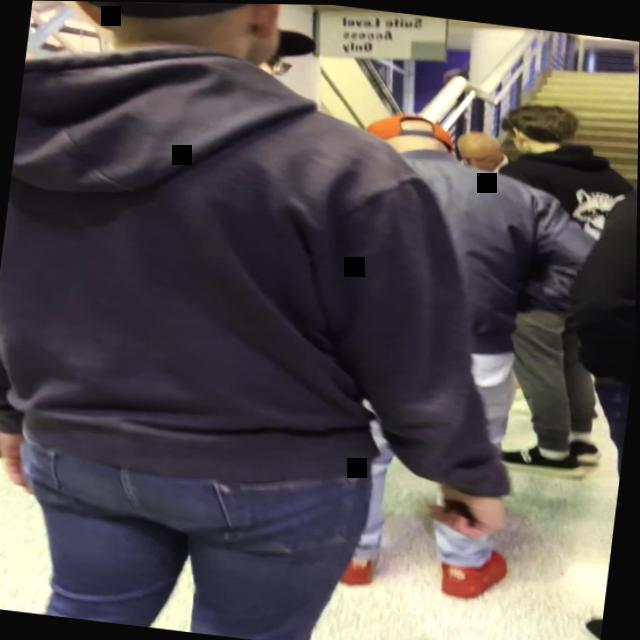NO-Mask: (460, 141, 499, 170)
